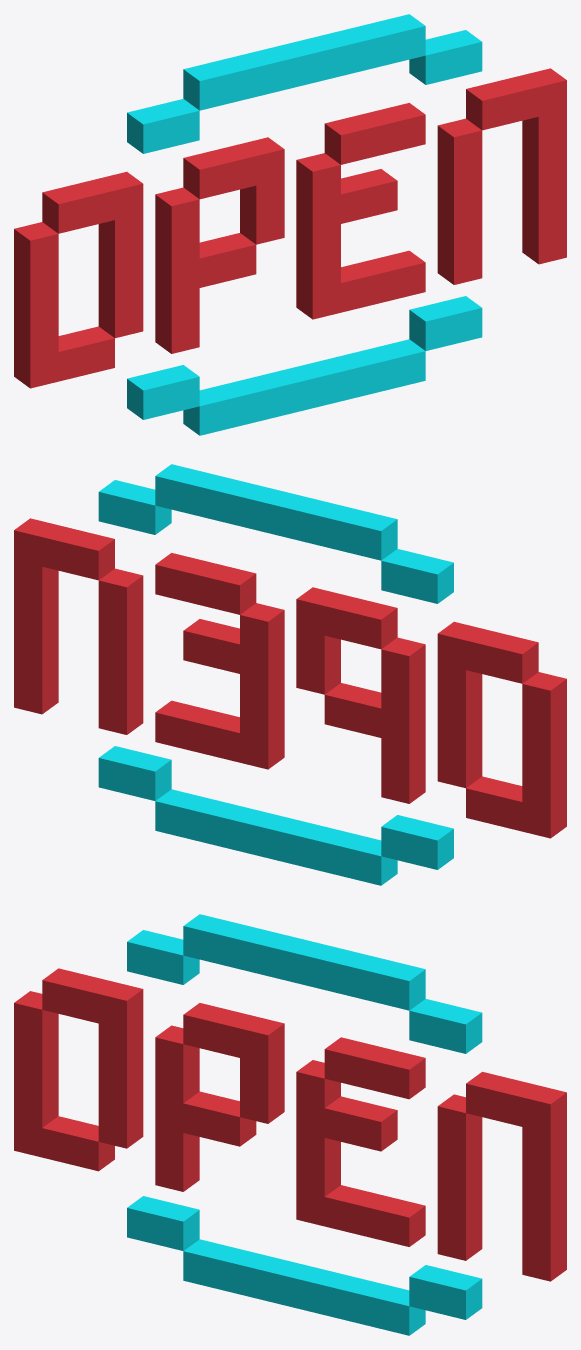
Rendered from NeonOpenSign0.obj.
3 renders of one model, top to bottom at view 1: azimuth 30°, elevation 25°; view 2: azimuth 150°, elevation 25°; view 3: azimuth 330°, elevation 25°, orthographic.
Size of the model in its own units: 1.9 by 1.2 by 0.1.
Materials: 1 (1 with a texture image).
